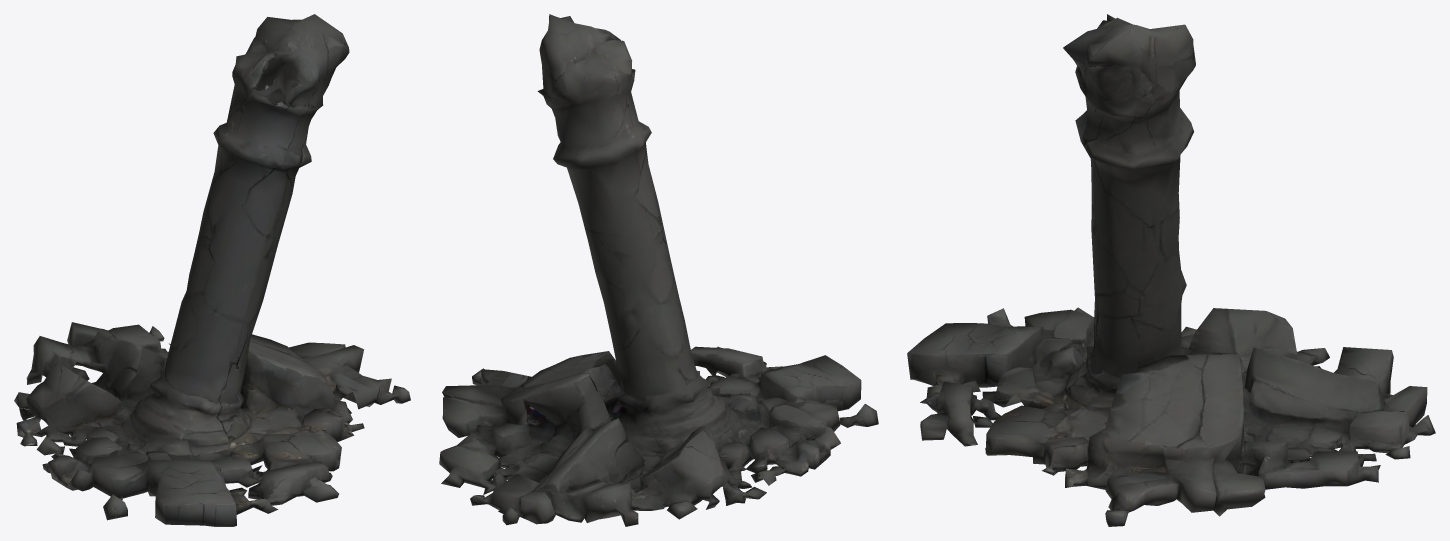
The model's file is Fallen_Pillar.glb.
3 renders of one model, left to right at view 1: azimuth 30°, elevation 25°; view 2: azimuth 150°, elevation 25°; view 3: azimuth 270°, elevation 25°, orthographic. The views are drawn at different scales.
Parts seen in each view (by area): view 1: Fallen_Pillar; view 2: Fallen_Pillar; view 3: Fallen_Pillar.
Part boxes in pixels (<box>): Fallen_Pillar: <box>14,14,410,526</box>; Fallen_Pillar: <box>439,14,878,526</box>; Fallen_Pillar: <box>907,14,1435,526</box>.
Bounding box in the file's own units: 1.46 × 1.58 × 1.64.
1 material, 1 textured.
